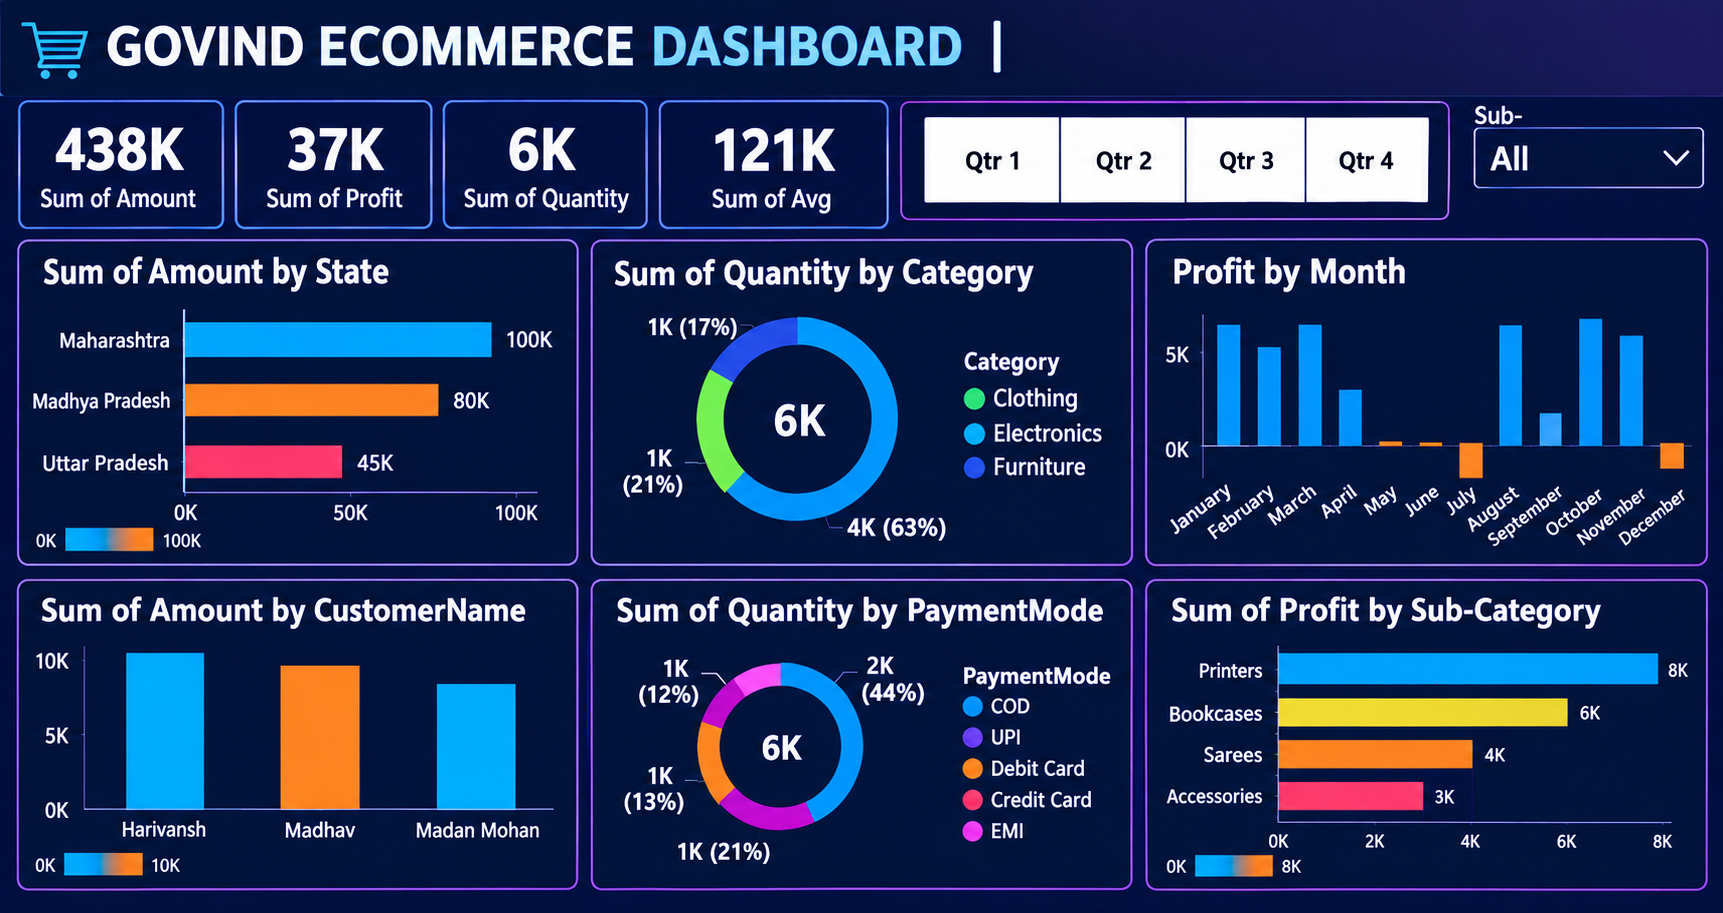

What the dashboard file says about the page in this screenshot:
{"tool":"powerbi","page":{"name":"Page 1","canvas":[1920,1080],"ordinal":0},"visuals":[{"type":"clusteredColumnChart","title":"Profit by Month","fields":{"Category":["order.Order Date.Variation.Date Hierarchy.Month"],"Y":["Sum(Details.Profit)"]},"box":[1270,280,640,380],"z":0},{"type":"barChart","fields":{"Category":["Details.Sub-Category"],"Y":["Sum(Details.Profit)"]},"box":[1270,680,640,337.8],"z":1000},{"type":"donutChart","fields":{"Category":["Details.Category"],"Y":["Sum(Details.Quantity)"]},"box":[657.5,280,602.2,380],"z":2000},{"type":"donutChart","fields":{"Category":["Details.PaymentMode","Details.Category"],"Y":["Sum(Details.Quantity)"]},"box":[655,680,602.2,337.8],"z":3000},{"type":"cardVisual","fields":{"Data":["Sum(Details.Amount)"]},"box":[27.5,132.5,222.5,142.5],"z":4000},{"type":"cardVisual","fields":{"Data":["Sum(Details.Profit)"]},"box":[250,132.5,222.5,142.5],"z":5000},{"type":"cardVisual","fields":{"Data":["Sum(Details.Quantity)"]},"box":[472.5,132.5,232.5,142.5],"z":6000},{"type":"cardVisual","fields":{"Data":["Sum(Details.Avg)"]},"box":[710,132.5,250,142.5],"z":7000},{"type":"textbox","box":[27.5,45,932.5,70],"z":8000},{"type":"clusteredBarChart","fields":{"Category":["order.State"],"Y":["Sum(Details.Amount)"]},"box":[27.5,280,605,380],"z":9000},{"type":"slicer","fields":{"Values":["order.Order Date.Variation.Date Hierarchy.Quarter"]},"box":[977.5,132.5,630,120],"z":10000},{"type":"slicer","fields":{"Values":["order.State"]},"box":[1642.5,132.5,235,120],"z":11000},{"type":"clusteredColumnChart","fields":{"Category":["order.CustomerName"],"Y":["Sum(Details.Amount)"]},"box":[28,680,605,338],"z":12000}]}

Visuals, with their boxes on the page's 1920x1080 design canvas (x1, y1, x2, y2). These are canvas units, not pixel positions in the 1723x913 screenshot, which may show the page scaled, cropped or inside an application window:
"Profit by Month" clusteredColumnChart: box=[1270, 280, 1910, 660]
barChart - Details.Sub-Category x Sum(Details.Profit): box=[1270, 680, 1910, 1018]
donutChart - Details.Category x Sum(Details.Quantity): box=[658, 280, 1260, 660]
donutChart - Details.PaymentMode x Details.Category: box=[655, 680, 1257, 1018]
cardVisual - Sum(Details.Amount): box=[28, 132, 250, 275]
cardVisual - Sum(Details.Profit): box=[250, 132, 472, 275]
cardVisual - Sum(Details.Quantity): box=[472, 132, 705, 275]
cardVisual - Sum(Details.Avg): box=[710, 132, 960, 275]
textbox: box=[28, 45, 960, 115]
clusteredBarChart - order.State x Sum(Details.Amount): box=[28, 280, 632, 660]
slicer - order.Order Date.Variation.Date Hierarchy.Quarter: box=[978, 132, 1608, 252]
slicer - order.State: box=[1642, 132, 1878, 252]
clusteredColumnChart - order.CustomerName x Sum(Details.Amount): box=[28, 680, 633, 1018]
